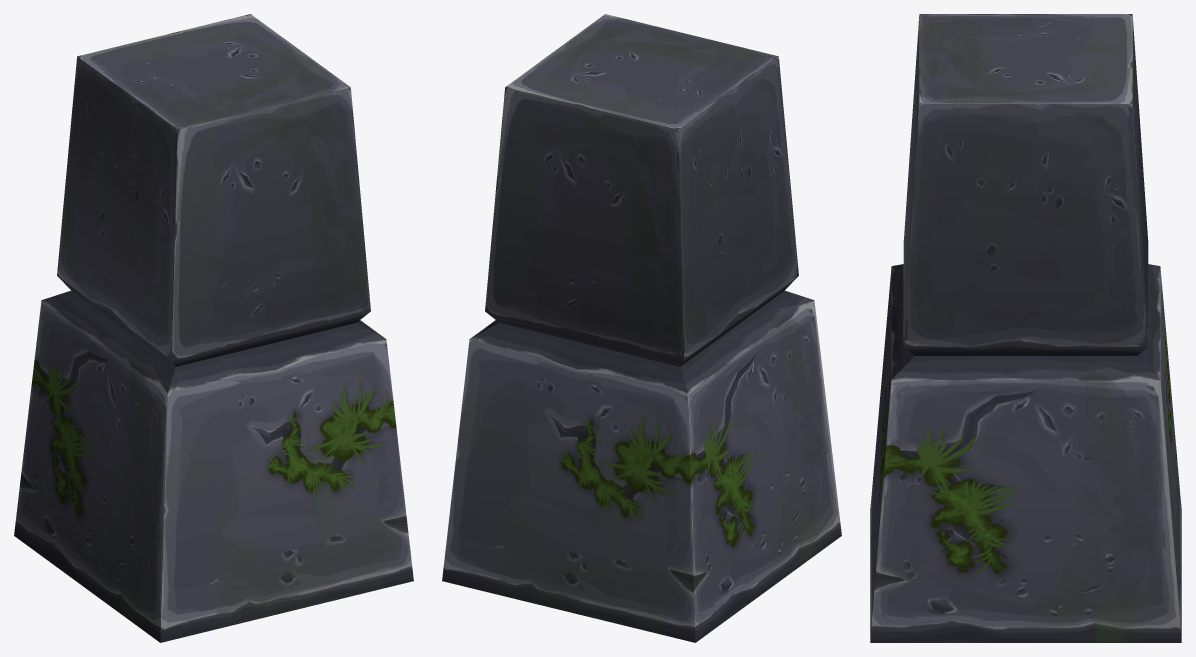
The model's file is MOD_Column_01_small.fbx.
The picture shows the model from 3 angles, left to right: view 1: azimuth 30°, elevation 25°; view 2: azimuth 150°, elevation 25°; view 3: azimuth 270°, elevation 25°; orthographic projection. The views are drawn at different scales.
Parts seen in each view (by area): view 1: MOD_Column_01_small; view 2: MOD_Column_01_small; view 3: MOD_Column_01_small.
Boxes of the visible parts, left/top/right/bottom form: MOD_Column_01_small: left=14, top=14, right=413, bottom=642; MOD_Column_01_small: left=442, top=14, right=841, bottom=642; MOD_Column_01_small: left=870, top=14, right=1181, bottom=642.
Bounding box in the file's own units: 104 × 190 × 104.
